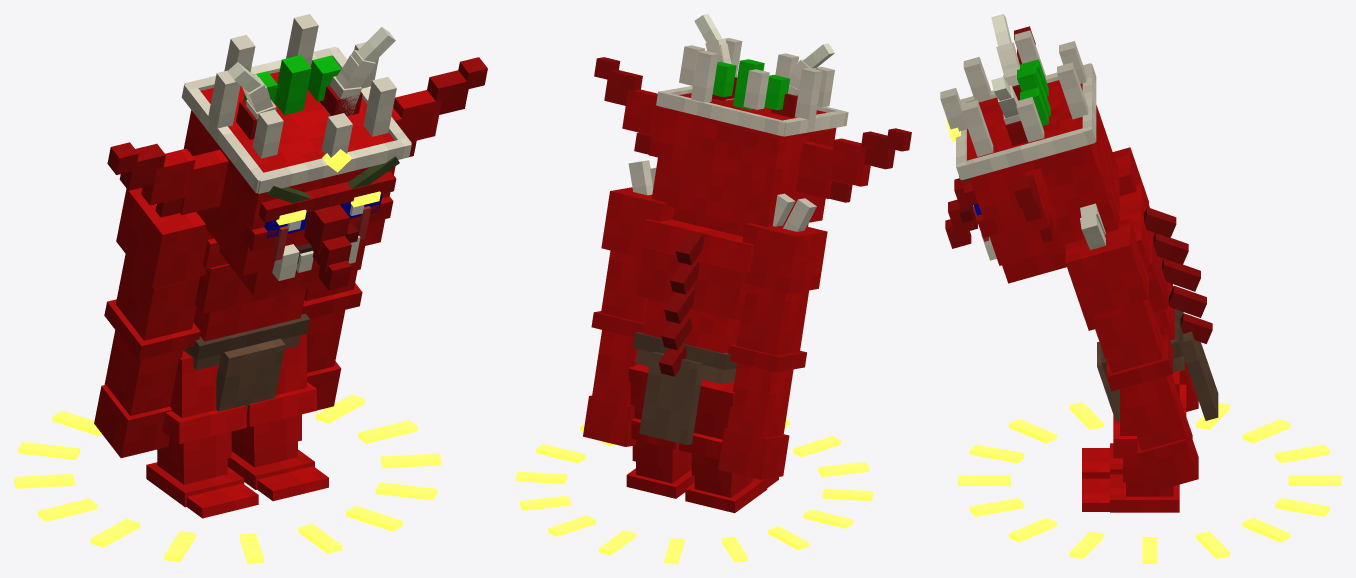
The model's file is goblin_s1_evo3.glb.
The picture shows the model from 3 angles, left to right: view 1: azimuth 30°, elevation 25°; view 2: azimuth 150°, elevation 25°; view 3: azimuth 270°, elevation 25°; orthographic projection. The views are drawn at different scales.
Visible parts, largest first — view 1: Head, ArmR, Torso, LegR, Root, LegL, ArmL; view 2: Head, Torso, ArmR, ArmL, Root, LegR, LegL; view 3: Head, ArmL, Torso, Root, LegL, ArmR, LegR.
Part boxes in pixels (x1=…): Head: x1=107, y1=14, x2=487, y2=295; ArmR: x1=94, y1=187, x2=213, y2=458; Torso: x1=183, y1=238, x2=321, y2=425; LegR: x1=146, y1=350, x2=258, y2=518; Root: x1=14, y1=394, x2=441, y2=563; LegL: x1=227, y1=333, x2=328, y2=501; ArmL: x1=301, y1=270, x2=362, y2=410; Head: x1=594, y1=14, x2=911, y2=236; Torso: x1=632, y1=219, x2=754, y2=444; ArmR: x1=718, y1=193, x2=827, y2=479; ArmL: x1=583, y1=160, x2=674, y2=446; Root: x1=516, y1=419, x2=873, y2=563; LegR: x1=679, y1=379, x2=778, y2=513; LegL: x1=626, y1=364, x2=694, y2=498; Head: x1=940, y1=14, x2=1119, y2=283; ArmL: x1=1065, y1=203, x2=1198, y2=492; Torso: x1=1084, y1=184, x2=1218, y2=421; Root: x1=958, y1=402, x2=1341, y2=563; LegL: x1=1082, y1=371, x2=1186, y2=512; ArmR: x1=1112, y1=147, x2=1198, y2=411; LegR: x1=1082, y1=384, x2=1186, y2=478.
Bounding box in the file's own units: 1.1 × 1.39 × 1.15.
Materials: 29 (29 with a texture image).
